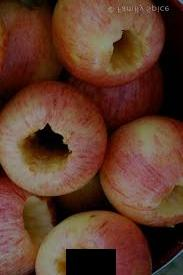rotten apple: (1, 89, 100, 196), (110, 24, 151, 80)
